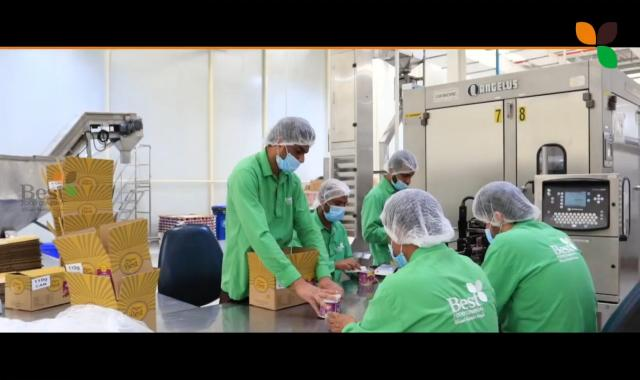hairnet: (378, 190, 455, 246), (473, 178, 542, 225), (264, 116, 316, 152), (314, 178, 350, 206), (386, 148, 416, 178)
